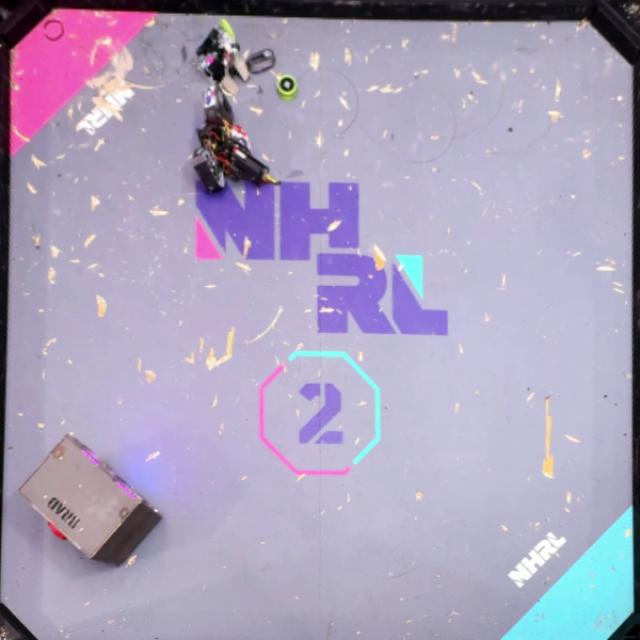housebot: (20, 434, 161, 566)
robot: (192, 85, 280, 194), (194, 18, 250, 94)
